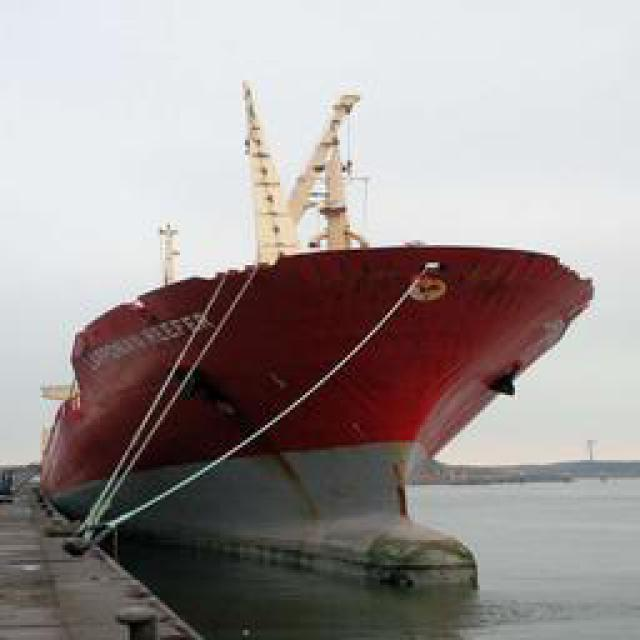Ship: (8, 50, 609, 601)
